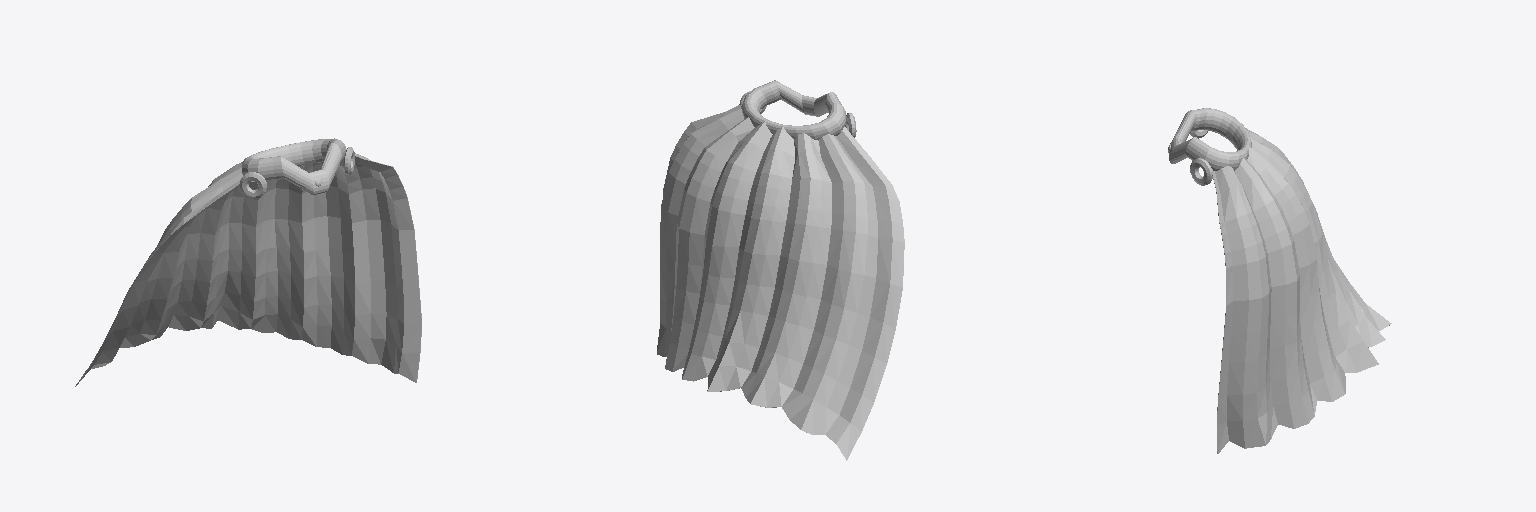
The model's file is item_hide.obj.
3 renders of one model, left to right at view 1: azimuth 30°, elevation 25°; view 2: azimuth 150°, elevation 25°; view 3: azimuth 270°, elevation 25°, orthographic.
Visible parts, largest first — view 1: pCube1, pTorus1; view 2: pCube1, pTorus1; view 3: pCube1, pTorus1.
Boxes of the visible parts, <box> form: pCube1: <box>75,148,421,386</box>; pTorus1: <box>242,138,345,194</box>; pCube1: <box>657,105,904,460</box>; pTorus1: <box>741,80,845,139</box>; pCube1: <box>1211,128,1391,453</box>; pTorus1: <box>1168,108,1251,170</box>.
Size of the model in its own units: 10.74 by 10.34 by 7.71.